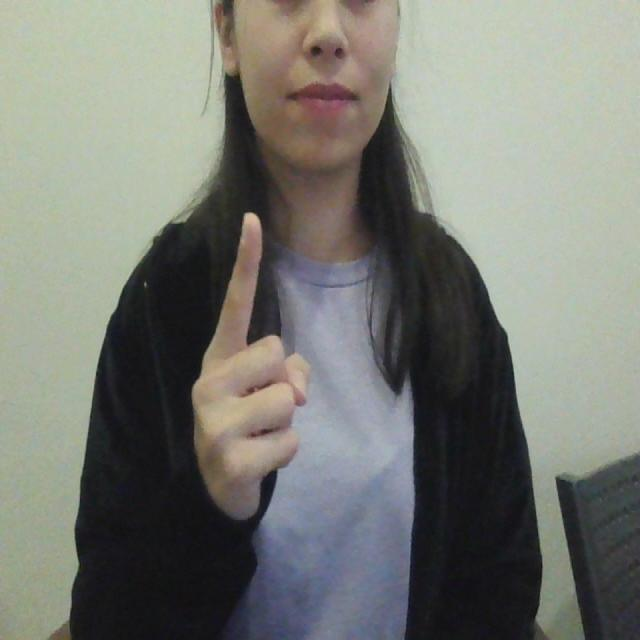Hayir: (187, 199, 326, 543)
